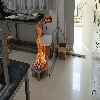fire: (35, 19, 46, 70)
